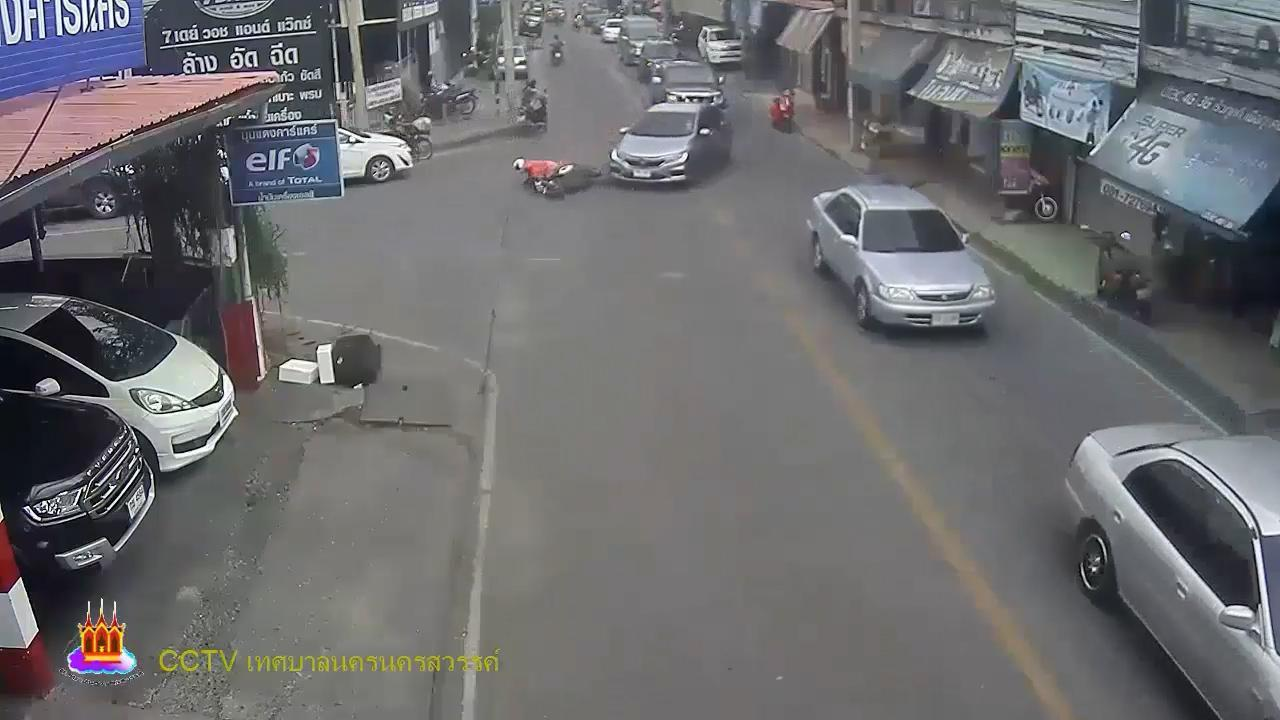accident: (503, 151, 563, 183)
